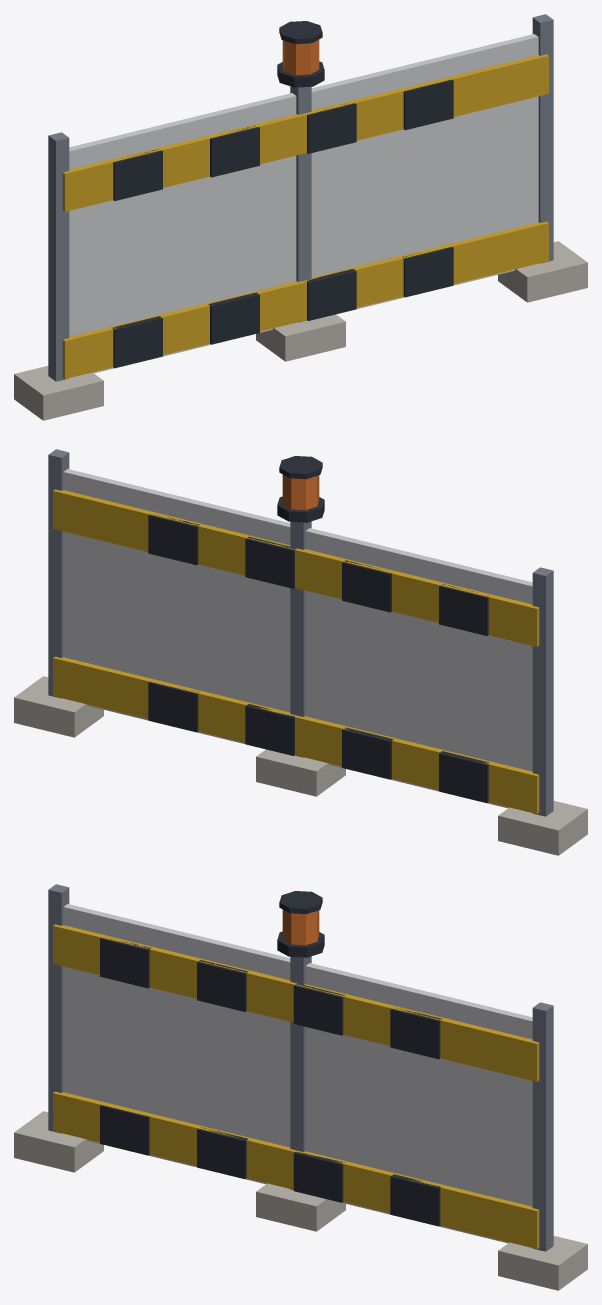
The model's file is site_hoarding.glb.
3 renders of one model, top to bottom at view 1: azimuth 30°, elevation 25°; view 2: azimuth 150°, elevation 25°; view 3: azimuth 330°, elevation 25°, orthographic.
Parts seen in each view (by area): view 1: site_hoarding; view 2: site_hoarding; view 3: site_hoarding.
Part boxes in pixels (left/top/right/bottom): site_hoarding: left=14, top=14, right=587, bottom=420; site_hoarding: left=14, top=449, right=587, bottom=855; site_hoarding: left=14, top=884, right=587, bottom=1290.
Bounding box in the file's own units: 4.5 × 2.48 × 0.42.
